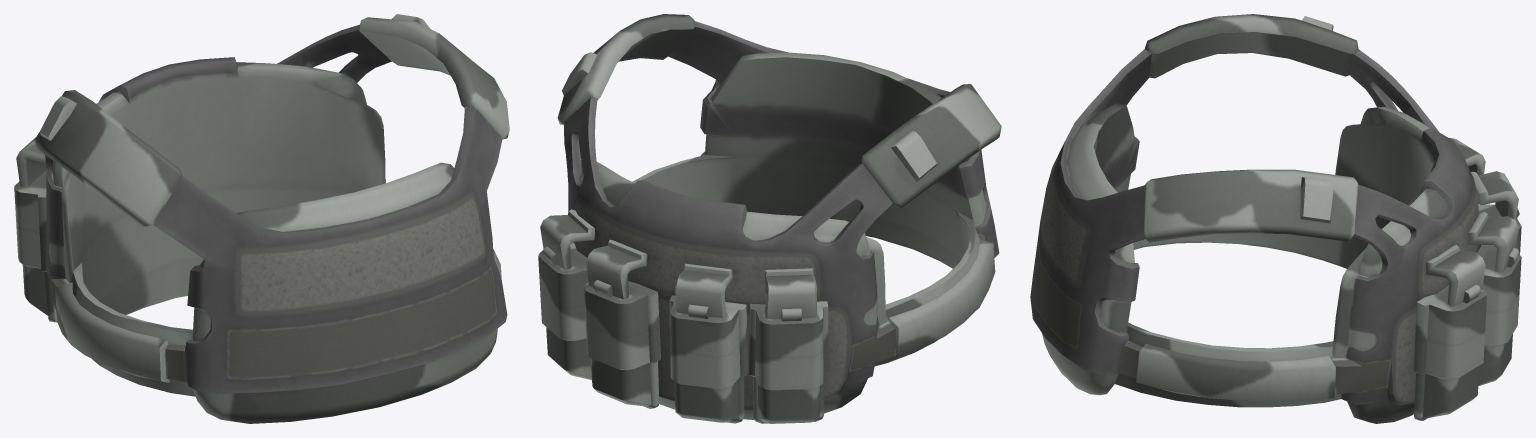
The model's file is IG_Armor_Lv3-3.fbx.
The picture shows the model from 3 angles, left to right: view 1: azimuth 30°, elevation 25°; view 2: azimuth 150°, elevation 25°; view 3: azimuth 270°, elevation 25°; orthographic projection. The views are drawn at different scales.
Parts seen in each view (by area): view 1: Clothes_LV5_4; view 2: Clothes_LV5_4; view 3: Clothes_LV5_4.
Part boxes in pixels (box(x1,y1,x2,y2)): Clothes_LV5_4: box(14, 14, 509, 423); Clothes_LV5_4: box(538, 14, 1001, 423); Clothes_LV5_4: box(1030, 14, 1521, 423).
Bounding box in the file's own units: 0.6556 × 0.4502 × 0.7158.
